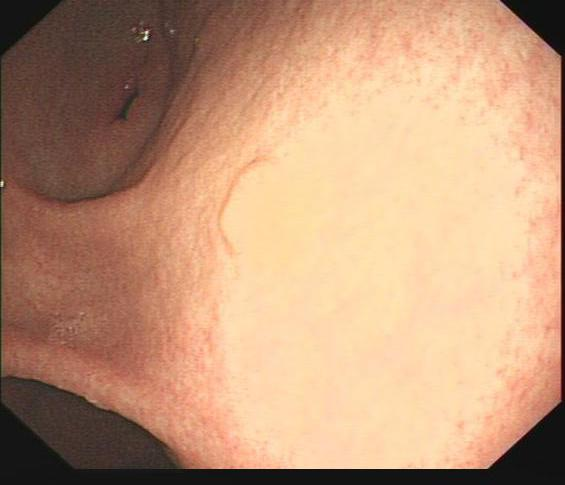Polyp: (212, 156, 290, 260)
